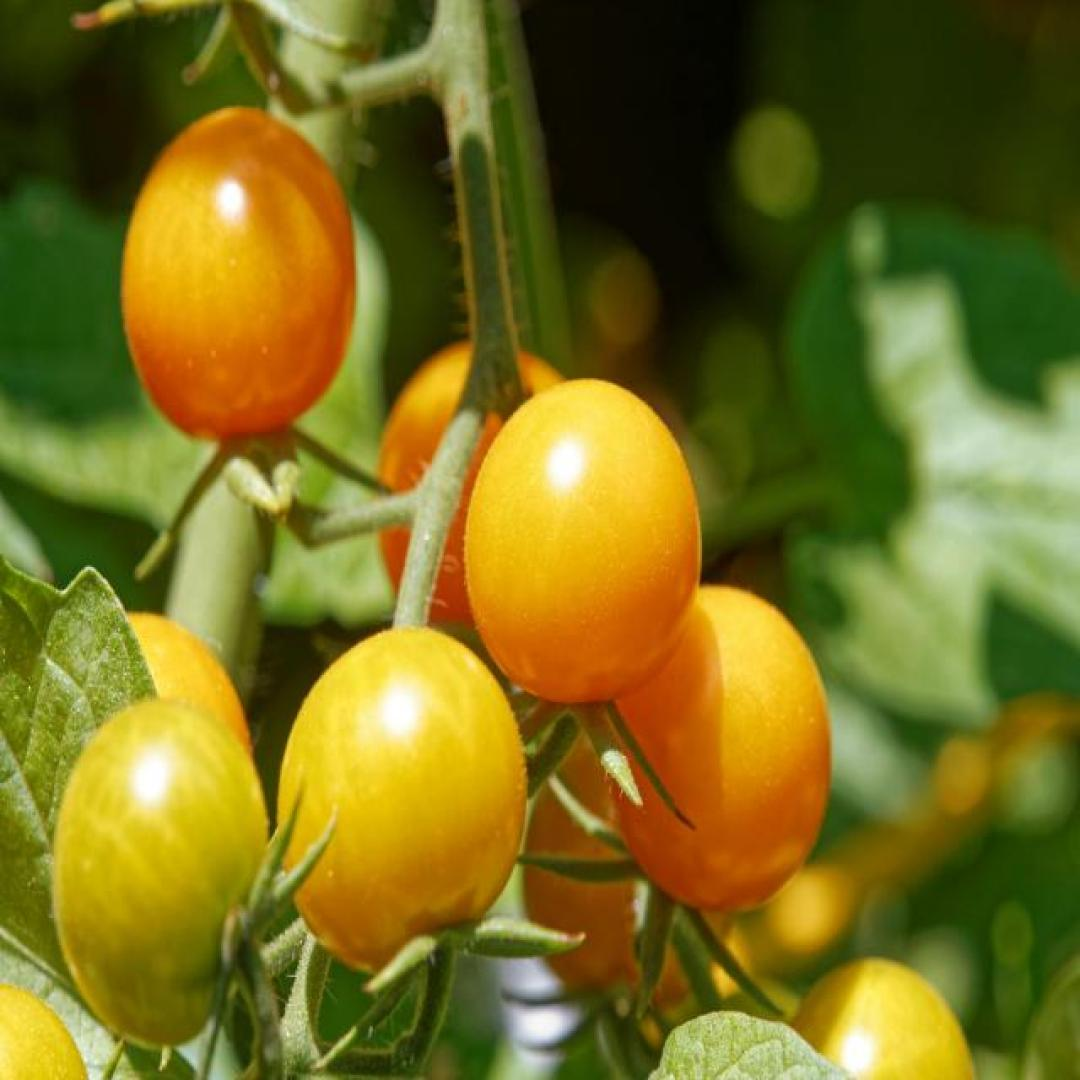mentah: (49, 699, 272, 1051)
setengah_matang: (277, 628, 530, 977), (116, 101, 356, 444), (462, 374, 706, 706), (608, 582, 834, 911)
